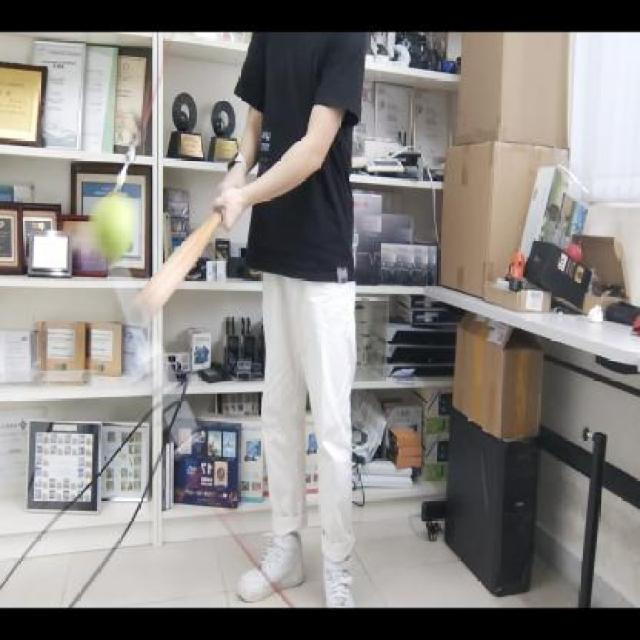baseball: (86, 190, 134, 268)
